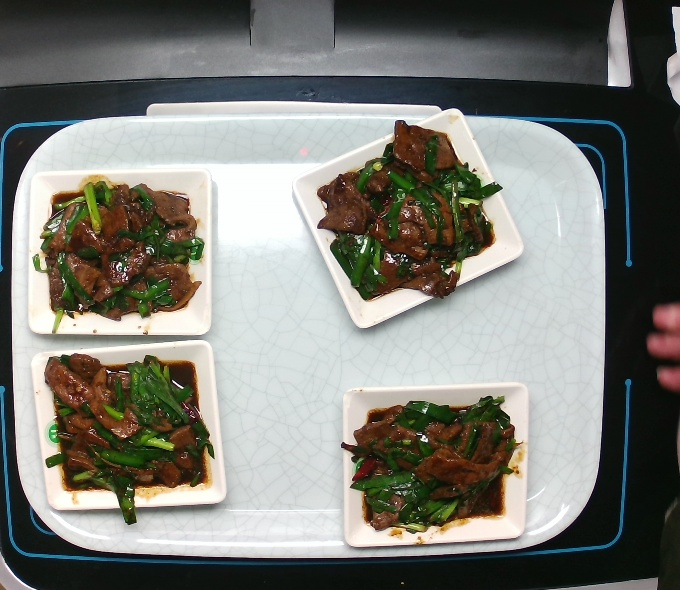wcq-ZhuGan: (312, 126, 501, 298), (41, 353, 207, 504), (350, 394, 513, 546), (37, 181, 204, 319)
